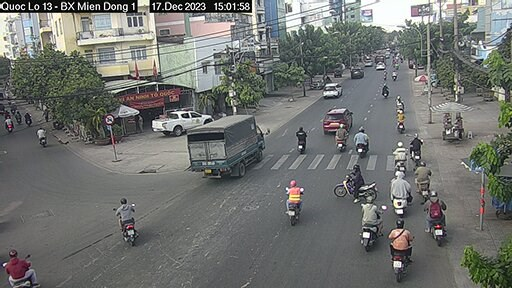car: (149, 107, 215, 132), (319, 103, 356, 139), (321, 79, 349, 101)
motorbike: (109, 200, 163, 254), (335, 153, 376, 195), (351, 192, 380, 250), (380, 218, 415, 265), (276, 175, 306, 223), (420, 191, 446, 245), (387, 169, 410, 218), (354, 126, 379, 168), (334, 126, 360, 164), (388, 109, 413, 143), (407, 132, 433, 164), (292, 125, 312, 158), (390, 138, 410, 163), (418, 161, 431, 191)
truck: (173, 117, 267, 181)
